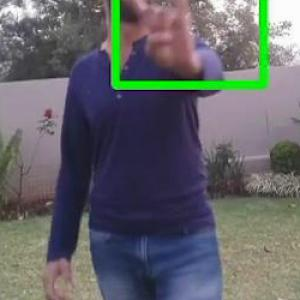takeoff-hand: (114, 0, 200, 78)
